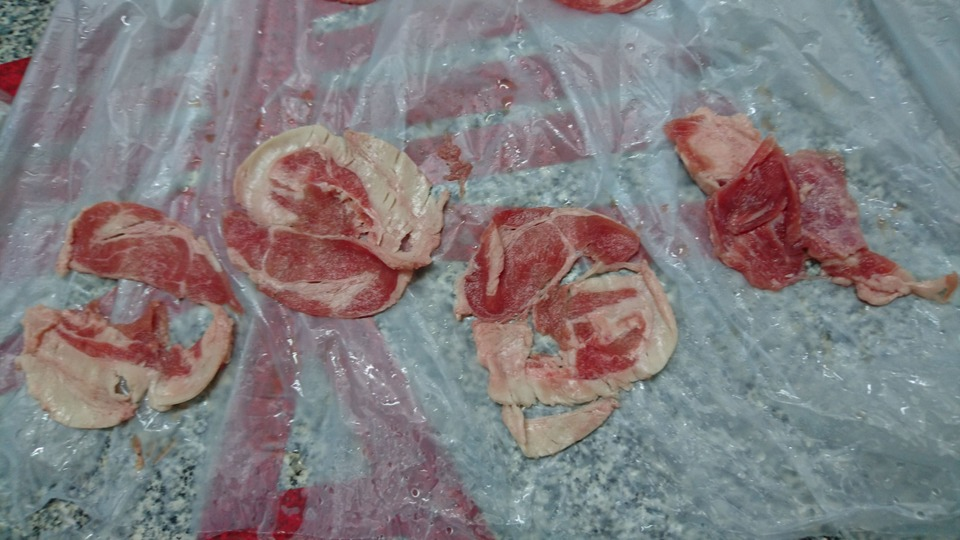restructured meat: (449, 183, 680, 464), (664, 103, 945, 306), (20, 200, 238, 425), (233, 113, 451, 322)
